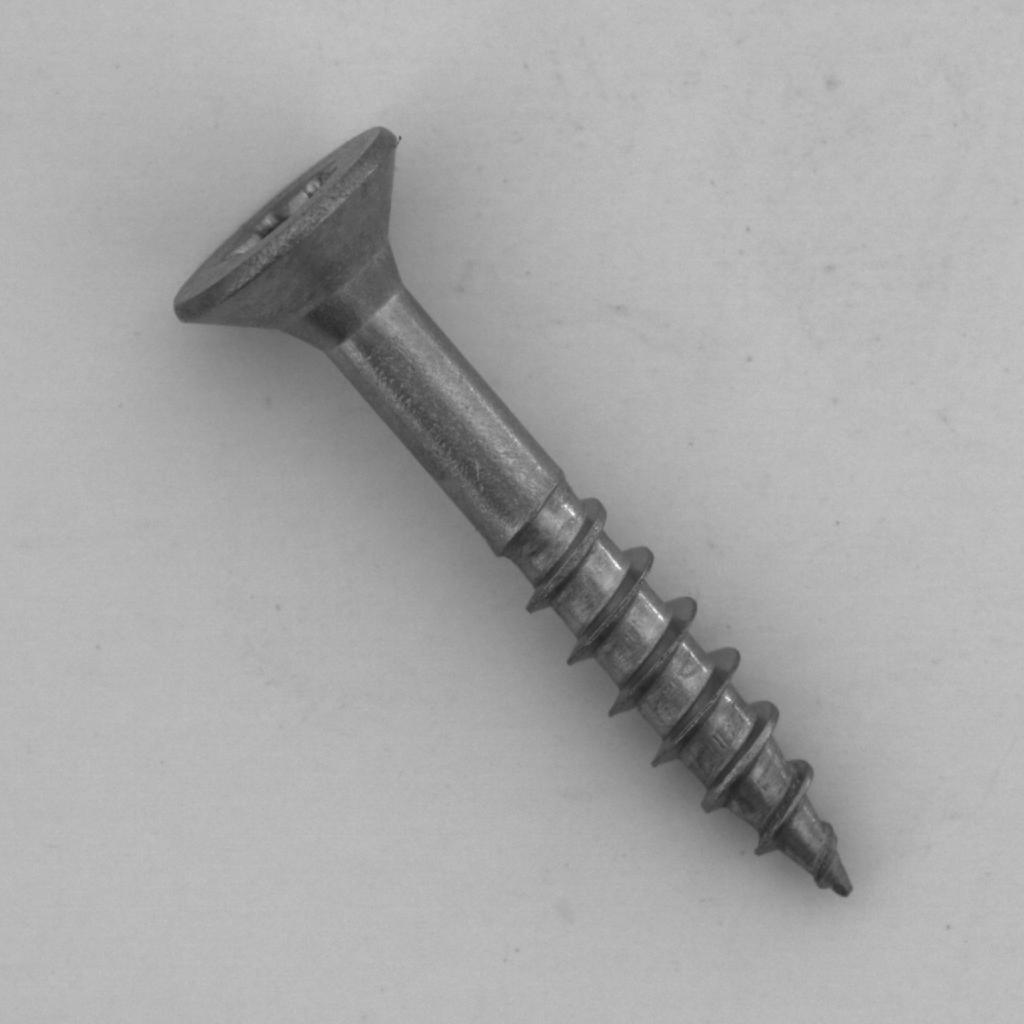good: (156, 113, 873, 913)
